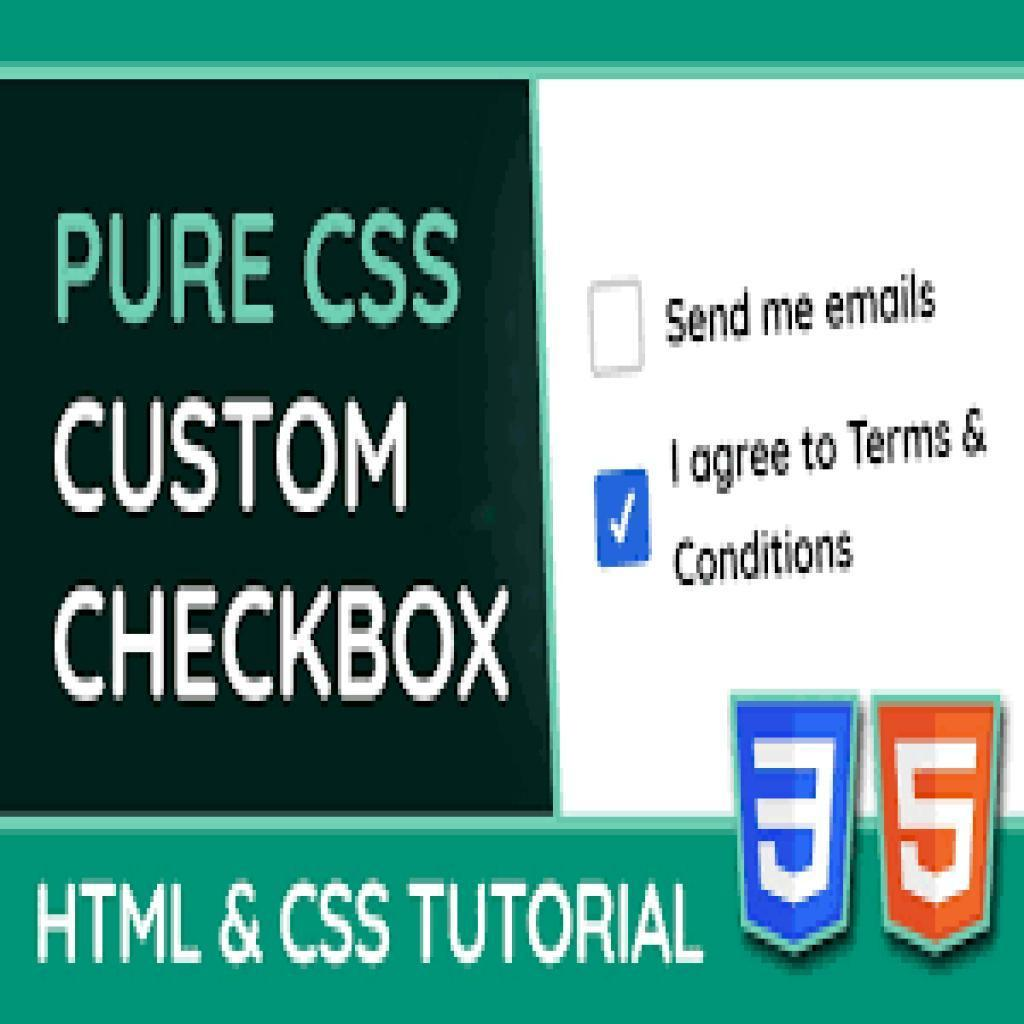checkbox: (588, 281, 649, 377), (593, 473, 654, 568)
